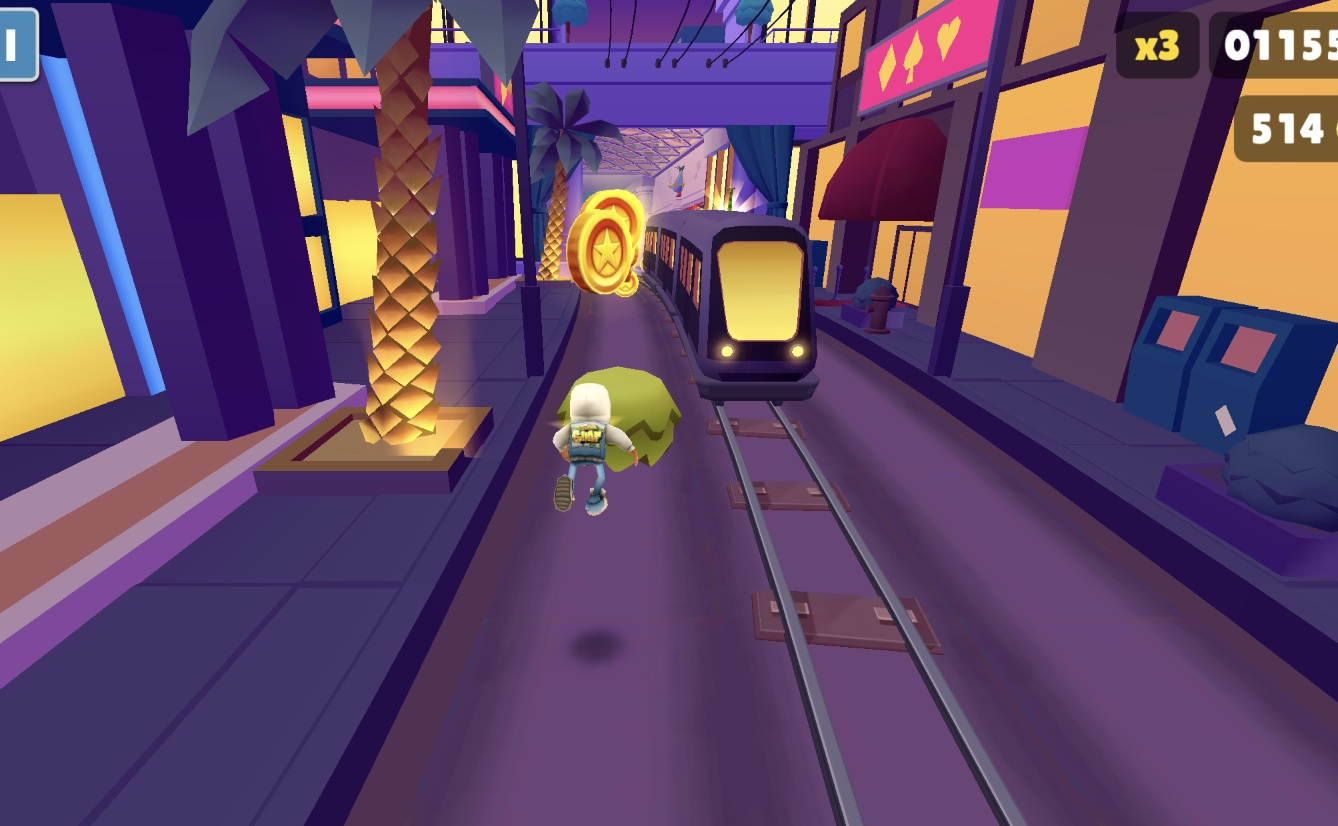bush: (554, 369, 681, 477)
train: (639, 215, 816, 402)
